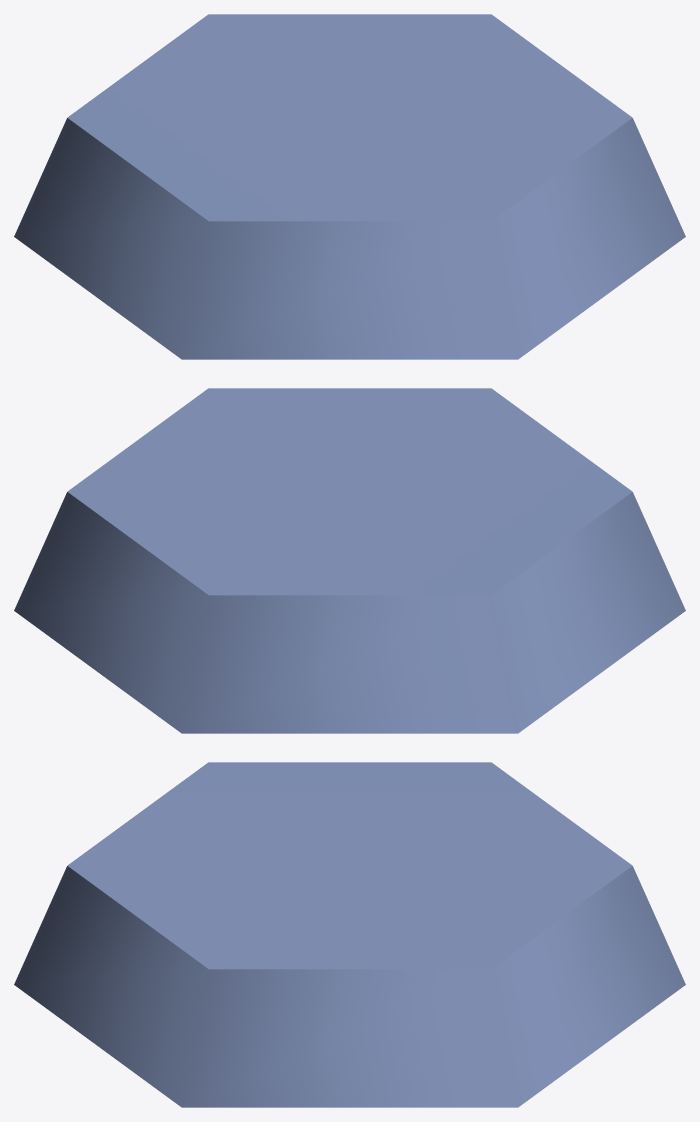
The model's file is AnteneHolder_1_A.fbx.
3 views of the same model, one above another, from view 1: azimuth 30°, elevation 25°; view 2: azimuth 150°, elevation 25°; view 3: azimuth 270°, elevation 25° (orthographic).
Visible parts, largest first — view 1: AnteneHolder_1_A; view 2: AnteneHolder_1_A; view 3: AnteneHolder_1_A.
Boxes of the visible parts, x1,y1,x2,y2 form: AnteneHolder_1_A: (14,14,685,359); AnteneHolder_1_A: (14,388,685,733); AnteneHolder_1_A: (14,762,685,1107).
Size of the model in its own units: 29.47 by 6.66 by 34.03.
